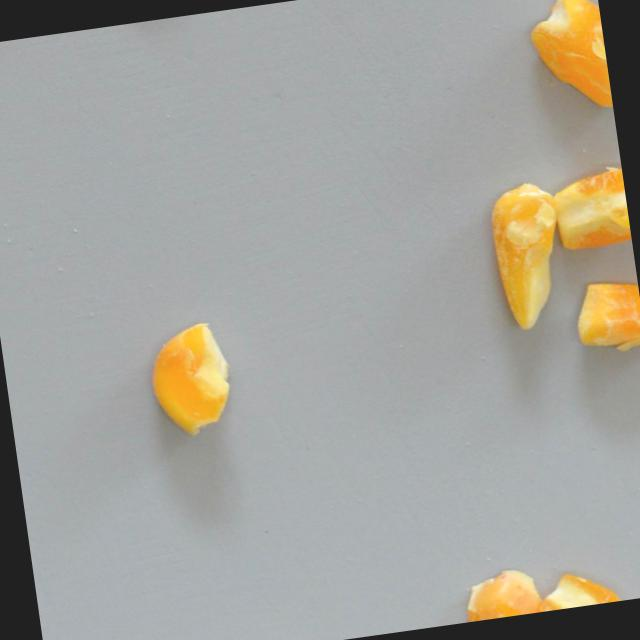pelicula: (485, 176, 576, 336), (140, 316, 243, 444), (519, 0, 614, 121), (542, 165, 633, 257), (564, 273, 640, 358), (461, 567, 551, 622), (535, 565, 637, 612)
